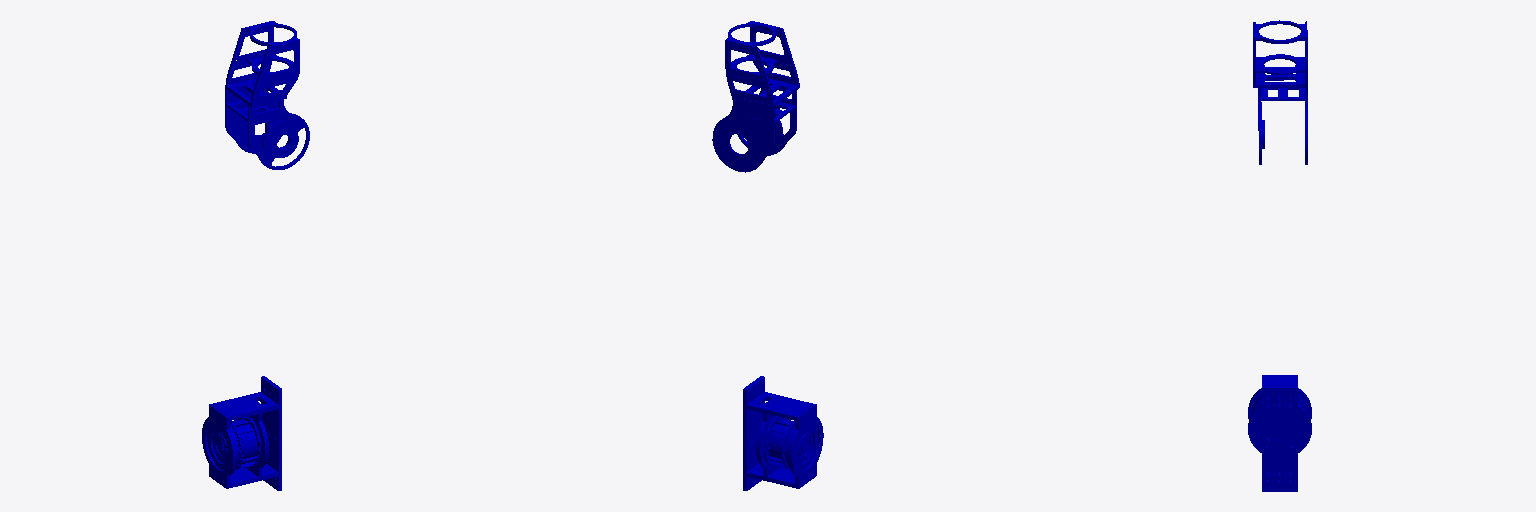
robot.urdf — lab_3dof:
<?xml version="1.0" encoding="utf-8"?>

<robot name="lab_3dof">
  <link name="world">
  </link>
  <joint name="world_joint" type="fixed">
    <origin rpy="-1.57079632679 0 1.57079632679" xyz="0.0 1.0 0"/>
    <parent link="world"/>
    <child link="base_link"/>
  </joint>

  <link name="base_link">
    <inertial>
      <origin
        xyz="-0.347374556858653 0.101207333103757 0.782524999724863"
        rpy="0 0 0" />
      <mass value="2.98839561693589" />
      <inertia
        ixx="0.00324149543224931"
        ixy="-4.07123251803895E-09"
        ixz="4.73978893588437E-08"
        iyy="0.00585723413730456"
        iyz="-3.99503167878619E-07"
        izz="0.00739428664676083" />
    </inertial>
    <visual>
      <origin
        xyz="0 0 0"
        rpy="0 0 0" />
      <geometry>
        <mesh filename="package://lab_3dof/meshes/base_link.STL" />
      </geometry>
      <material name="blue">
    	 <color rgba="0.0 0.0 0.8 1.0"/>  
      </material>
    </visual>
  </link>

  <link name="link_1">
    <inertial>
      <origin
        xyz="-0.00172366119668646 -2.55495447260452E-05 0.133968827840848"
        rpy="0 0 0" />
      <mass value="3.30744593008765" />
      <inertia
        ixx="0.00878765650292233"
        ixy="1.80427804879653E-06"
        ixz="2.13548495365278E-06"
        iyy="0.00572714704438864"
        iyz="-1.85409063938055E-06"
        izz="0.00424667264191884" />
    </inertial>
    <visual>
      <origin
        xyz="0 0 0"
        rpy="0 0 0" />
      <geometry>
        <mesh filename="package://lab_3dof/meshes/link_1.STL" />
      </geometry>
      <material name="blue">
    	 <color rgba="0.0 0.0 0.8 1.0"/>        
      </material>
    </visual>
  </link>
  <joint name="joint_1" type="revolute">
    <origin
      xyz="0 -0.136 0"
      rpy="1.5708 0 0" />
    <parent link="base_link" />
    <child link="link_1" />
    <axis xyz="0 0 1" />
    <limit effort="300" velocity="10"/>
    <dynamics rotor_inertia="0.0021" spring_mount="1 0 0 0" stiffness="0" damping="0.01"/>
  </joint>

  <link name="link_2">
    <inertial>
      <origin
        xyz="0.00626355053015673 0.0195692760743029 0.281532477415334"
        rpy="0 0 0" />
      <mass value="3.97301905127661" />
      <inertia
        ixx="0.0206571545145336"
        ixy="5.34178175255945E-07"
        ixz="3.18137551591275E-05"
        iyy="0.0170287884707626"
        iyz="0.00114099862594573"
        izz="0.00524723480624551" />180
    </inertial>
    <visual>
      <origin
        xyz="0 0 0"
        rpy="0 0 0" />
      <geometry>
        <mesh filename="package://lab_3dof/meshes/link_2.STL" />
      </geometry>
      <material name="blue">
    	 <color rgba="0.0 0.0 0.8 1.0"/>   
      </material>
    </visual>
  </link>
  <joint name="joint_2" type="revolute">
    <origin
      xyz="0 0 0.149"
      rpy="0 0 0" />
    <parent link="link_1" />
    <child link="link_2" />
    <axis xyz="1 0 0" />
    <limit effort="300" velocity="10"/>
    <dynamics rotor_inertia="0.0021" spring_mount="0.2 0 0 0" stiffness="100" damping="0.01"/>
  </joint>

  <link name="link_3">
    <inertial>
      <origin
        xyz="0.00340514153817608 0.022060386262522 0.091749494288482"
        rpy="0 0 0" />
      <mass value="1.08738146837964" />
      <inertia
        ixx="0.00461209800248674"
        ixy="1.19328883575937E-05"
        ixz="6.53945986716685E-06"
        iyy="0.00365409026116253"
        iyz="-0.000226932068353511"
        izz="0.00178925670898513" />
    </inertial>
    <visual>
      <origin
        xyz="0 0 0"
        rpy="0 0 0" />
      <geometry>
        <mesh filename="package://lab_3dof/meshes/link_3.STL" />
      </geometry>
      <material name="blue">
    	 <color rgba="0.0 0.0 0.8 1.0"/>     
      </material>
    </visual>
  </link>
  <joint name="joint_3" type="revolute">
    <origin
      xyz="0 0 0.45"
      rpy="0 0 0" />
    <parent link="link_2" />
    <child link="link_3" />
    <axis xyz="0.99997 0.0077715 0" />
    <limit effort="300" velocity="10"/>
    <dynamics rotor_inertia="0.0021" spring_mount="1.57 0 0 0" stiffness="0" damping="0.02"/>
  </joint>

  <link name="link_ee">
  </link>
  <joint name="joint_ee" type="fixed">
    <parent link="link_3"/>
    <child link="link_ee"/>
    <origin rpy="3.14159265359 3.14159265359 3.14159265359" xyz="0 0 0.249"/>
    <axis xyz="0 0 1"/>

  </joint>

</robot>

--- Facts derived from the render (not from the file) ---
The picture shows the robot from 3 angles, left to right: view 1: azimuth 30°, elevation 25°; view 2: azimuth 150°, elevation 25°; view 3: azimuth 270°, elevation 25°; orthographic projection.
Model lab_3dof with 6 links and 5 joints (3 revolute, 2 fixed), rooted at world, posed all joints at 0.
Visible links, largest first — view 1: link_3, base_link; view 2: link_3, base_link; view 3: base_link, link_3.
Link boxes in pixels (bbox=[...]): link_3: bbox=[225, 21, 309, 169]; base_link: bbox=[202, 376, 281, 490]; link_3: bbox=[712, 21, 799, 172]; base_link: bbox=[743, 376, 823, 490]; base_link: bbox=[1248, 375, 1311, 491]; link_3: bbox=[1253, 20, 1307, 164].
Bounding box of the posed robot: 0.2118 × 0.1395 × 1.11 m (x, y, z).
Meshes: 4 distinct files referenced, 2 mesh visuals loaded (2 binary STL); not drawn: 2 (reference not matched to a file when rendering).